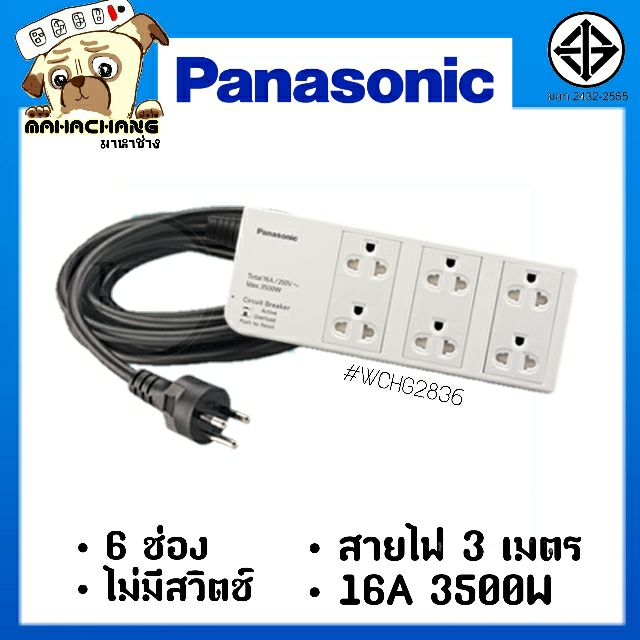Three_eye_plug: (213, 202, 584, 402)
